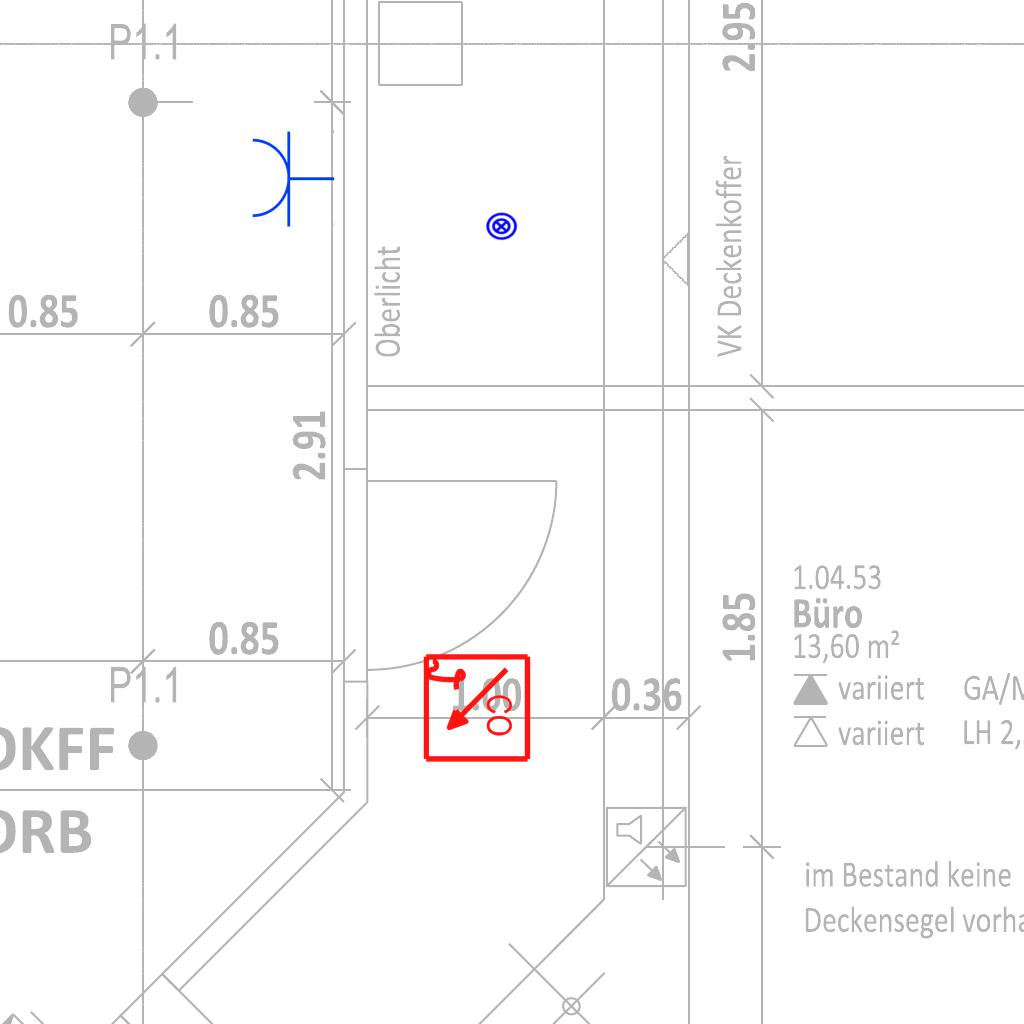ROA_Rauchmelder_optisch_mit_Signalgeber_(Sockelsirene): (419, 652, 532, 765)
Schukosteckdose_einfach: (248, 128, 335, 228)
Taster_beleuchtet: (485, 210, 518, 243)
